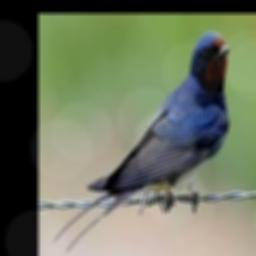Swallow: (53, 31, 230, 252)
